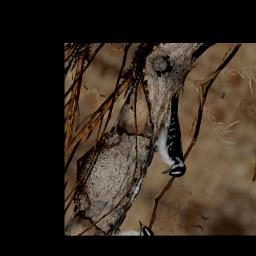Woodpecker: (135, 88, 215, 183)
